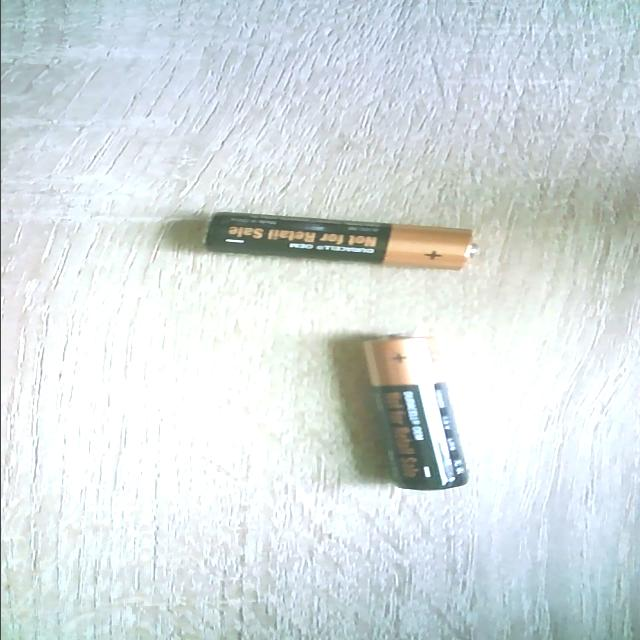AA: (360, 334, 470, 490), (205, 210, 480, 270)
